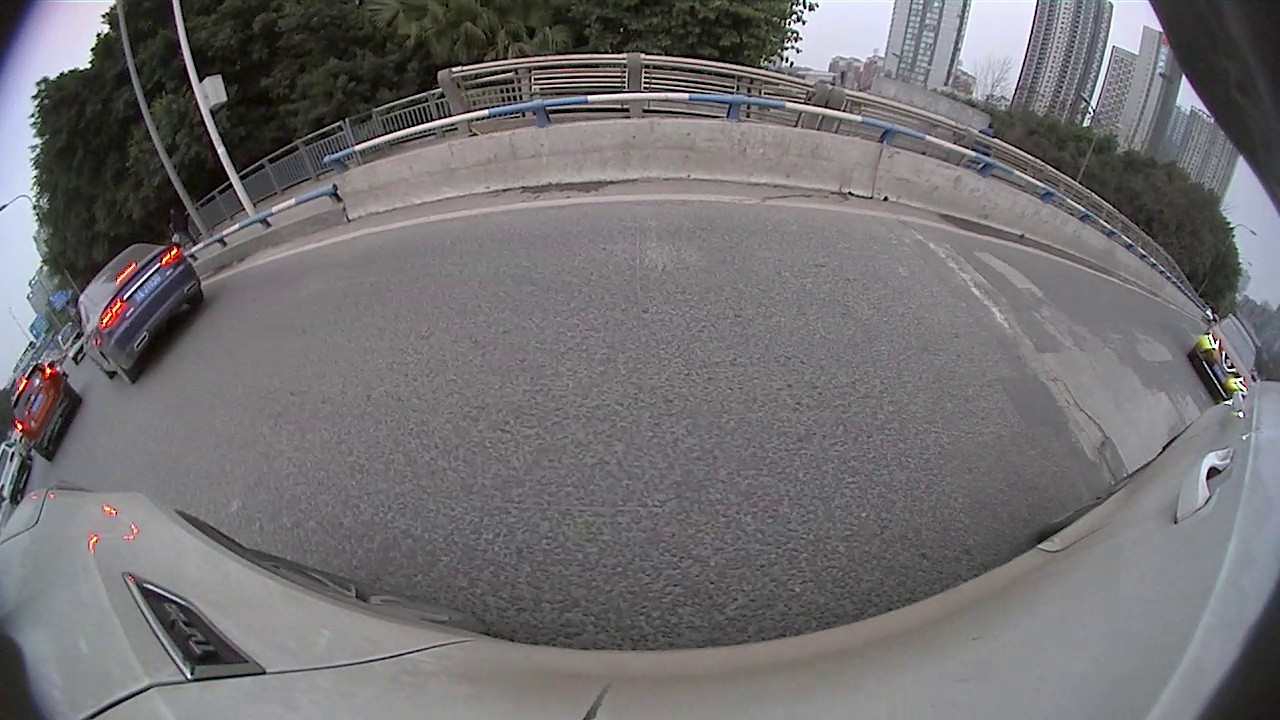car: (71, 240, 208, 386), (3, 360, 84, 460), (1187, 312, 1259, 403), (3, 434, 38, 500), (56, 320, 87, 359)
person: (168, 203, 197, 258), (980, 118, 998, 178)
rear: (102, 350, 135, 389), (183, 282, 208, 311)
